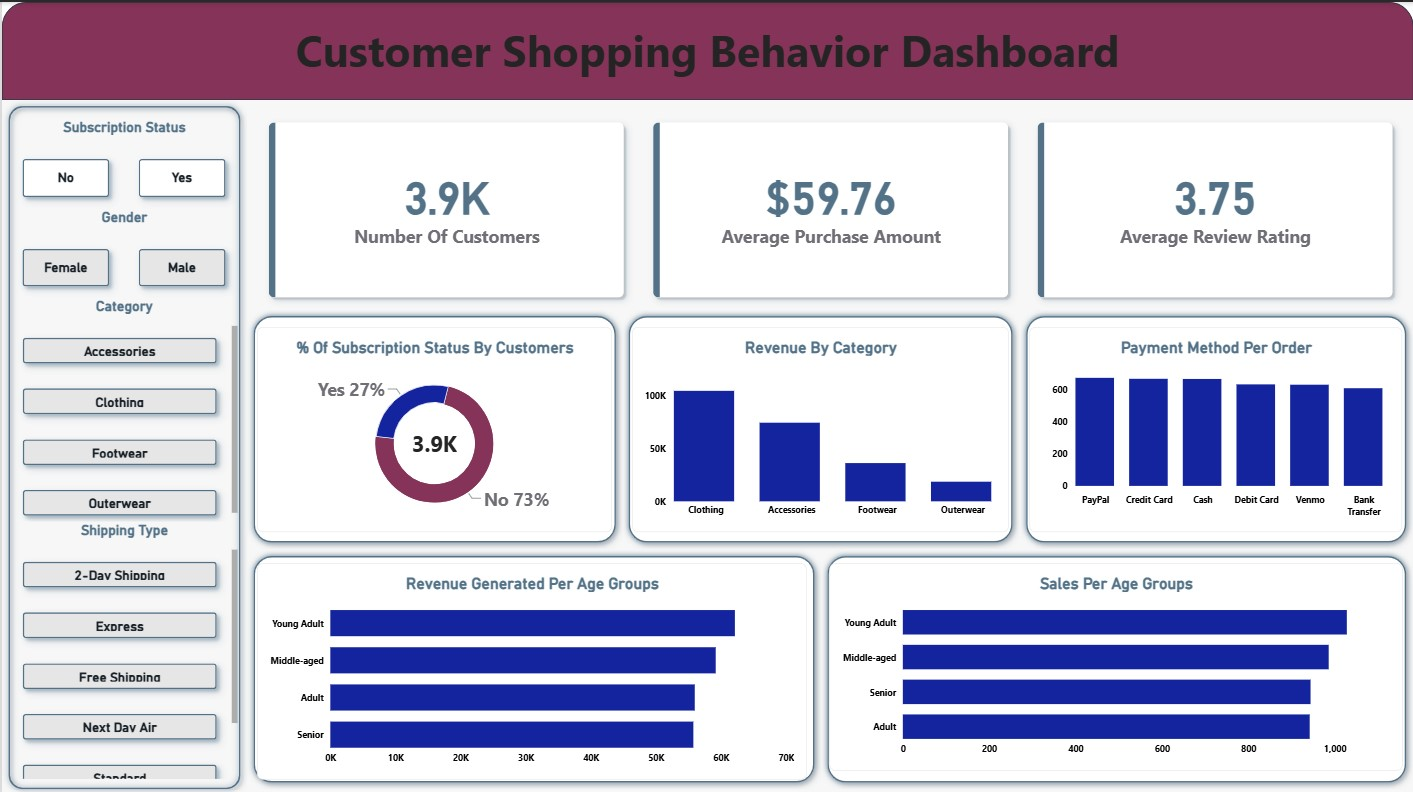

This screenshot's page, from the dashboard's own definition file:
{"tool":"powerbi","page":{"name":"Customer Behavour Report Analysis","canvas":[1920,1080],"ordinal":0},"visuals":[{"type":"cardVisual","fields":{"Data":["_Measures.Number Of Customers","_Measures.Average Purchase Amount","_Measures.Average Review Rating"]},"box":[346.3,148.2,1561.1,270.5],"z":0},{"type":"shape","box":[0,0,1921.2,133.3],"z":1000},{"type":"textbox","box":[0,25.8,1921.2,83.3],"z":2000},{"type":"shape","box":[1384.9,418.6,535.5,326.2],"z":3000},{"type":"shape","box":[333.1,418.6,511,326.2],"z":4000},{"type":"shape","box":[844.2,418.6,540.7,326.2],"z":5000},{"type":"donutChart","title":"% Of Subscription Status By Customers","fields":{"Category":["customer_shopping_behaviour customer_shopping_data.subscription_status"],"Y":["Count(customer_shopping_behaviour customer_shopping_data.customer_id)"]},"box":[347.1,443,483.1,279.1],"z":6000},{"type":"clusteredColumnChart","title":"Revenue By Category","fields":{"Category":["customer_shopping_behaviour customer_shopping_data.category"],"Y":["Sum(customer_shopping_behaviour customer_shopping_data.purchase_amount)"]},"box":[858.1,443,512.8,279.1],"z":7000},{"type":"clusteredColumnChart","title":"Payment Method Per Order","fields":{"Category":["customer_shopping_behaviour customer_shopping_data.payment_method"],"Y":["CountNonNull(customer_shopping_behaviour customer_shopping_data.purchase_amount)"]},"box":[1398.8,443,507.6,279.1],"z":8000},{"type":"shape","box":[0,132.7,333.5,947.6],"z":9000},{"type":"advancedSlicerVisual","fields":{"Values":["customer_shopping_behaviour customer_shopping_data.subscription_status"]},"box":[11.9,159.9,309.6,122.5],"z":10000},{"type":"advancedSlicerVisual","fields":{"Values":["customer_shopping_behaviour customer_shopping_data.gender"]},"box":[11.9,282.4,309.6,120.8],"z":11000},{"type":"advancedSlicerVisual","fields":{"Values":["customer_shopping_behaviour customer_shopping_data.category"]},"box":[11.9,403.2,309.6,304.5],"z":12000},{"type":"advancedSlicerVisual","fields":{"Values":["customer_shopping_behaviour customer_shopping_data.shipping_type"]},"box":[11.9,707.8,309.6,350.5],"z":13000},{"type":"shape","box":[333.1,744.8,781.4,326.2],"z":14000},{"type":"clusteredBarChart","title":"Revenue Generated Per Age Groups","fields":{"Category":["customer_shopping_behaviour customer_shopping_data.age_groups"],"Y":["Sum(customer_shopping_behaviour customer_shopping_data.purchase_amount)"]},"box":[347.1,764,748.3,294.8],"z":15000},{"type":"shape","box":[1114.5,744.8,805.8,326.2],"z":16000},{"type":"clusteredBarChart","title":"Sales Per Age Groups","fields":{"Category":["customer_shopping_behaviour customer_shopping_data.age_groups"],"Y":["CountNonNull(customer_shopping_behaviour customer_shopping_data.purchase_amount)"]},"box":[1126.7,764,779.7,282.6],"z":17000}]}

Visuals, with their boxes in screenshot pixels (x1, y1, x2, y2), scaled from the page's 1920x1080 canvas onto the 1413x792 screenshot:
cardVisual - _Measures.Number Of Customers x _Measures.Average Purchase Amount: {"x1": 255, "y1": 109, "x2": 1404, "y2": 307}
shape: {"x1": 0, "y1": 0, "x2": 1412, "y2": 98}
textbox: {"x1": 0, "y1": 19, "x2": 1412, "y2": 80}
shape: {"x1": 1019, "y1": 307, "x2": 1412, "y2": 546}
shape: {"x1": 245, "y1": 307, "x2": 621, "y2": 546}
shape: {"x1": 621, "y1": 307, "x2": 1019, "y2": 546}
"% Of Subscription Status By Customers" donutChart: {"x1": 255, "y1": 325, "x2": 611, "y2": 530}
"Revenue By Category" clusteredColumnChart: {"x1": 632, "y1": 325, "x2": 1009, "y2": 530}
"Payment Method Per Order" clusteredColumnChart: {"x1": 1029, "y1": 325, "x2": 1403, "y2": 530}
shape: {"x1": 0, "y1": 97, "x2": 245, "y2": 791}
advancedSlicerVisual - customer_shopping_behaviour customer_shopping_data.subscription_status: {"x1": 9, "y1": 117, "x2": 237, "y2": 207}
advancedSlicerVisual - customer_shopping_behaviour customer_shopping_data.gender: {"x1": 9, "y1": 207, "x2": 237, "y2": 296}
advancedSlicerVisual - customer_shopping_behaviour customer_shopping_data.category: {"x1": 9, "y1": 296, "x2": 237, "y2": 519}
advancedSlicerVisual - customer_shopping_behaviour customer_shopping_data.shipping_type: {"x1": 9, "y1": 519, "x2": 237, "y2": 776}
shape: {"x1": 245, "y1": 546, "x2": 820, "y2": 785}
"Revenue Generated Per Age Groups" clusteredBarChart: {"x1": 255, "y1": 560, "x2": 806, "y2": 776}
shape: {"x1": 820, "y1": 546, "x2": 1412, "y2": 785}
"Sales Per Age Groups" clusteredBarChart: {"x1": 829, "y1": 560, "x2": 1403, "y2": 768}
